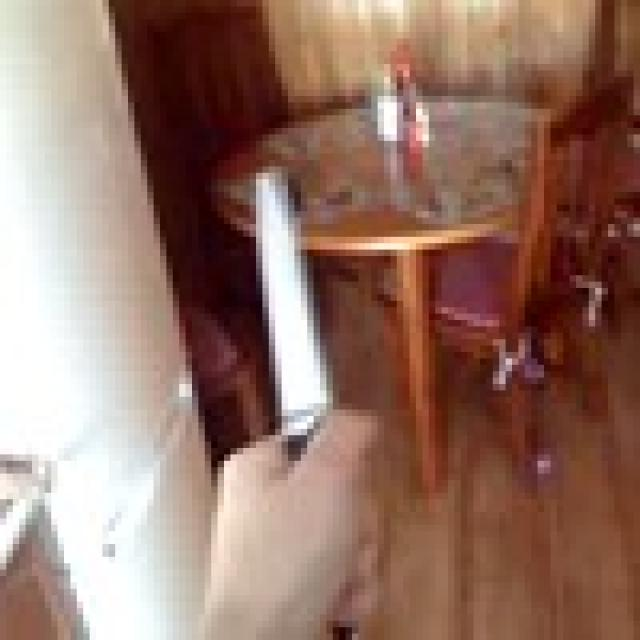weapon: (218, 154, 378, 620)
